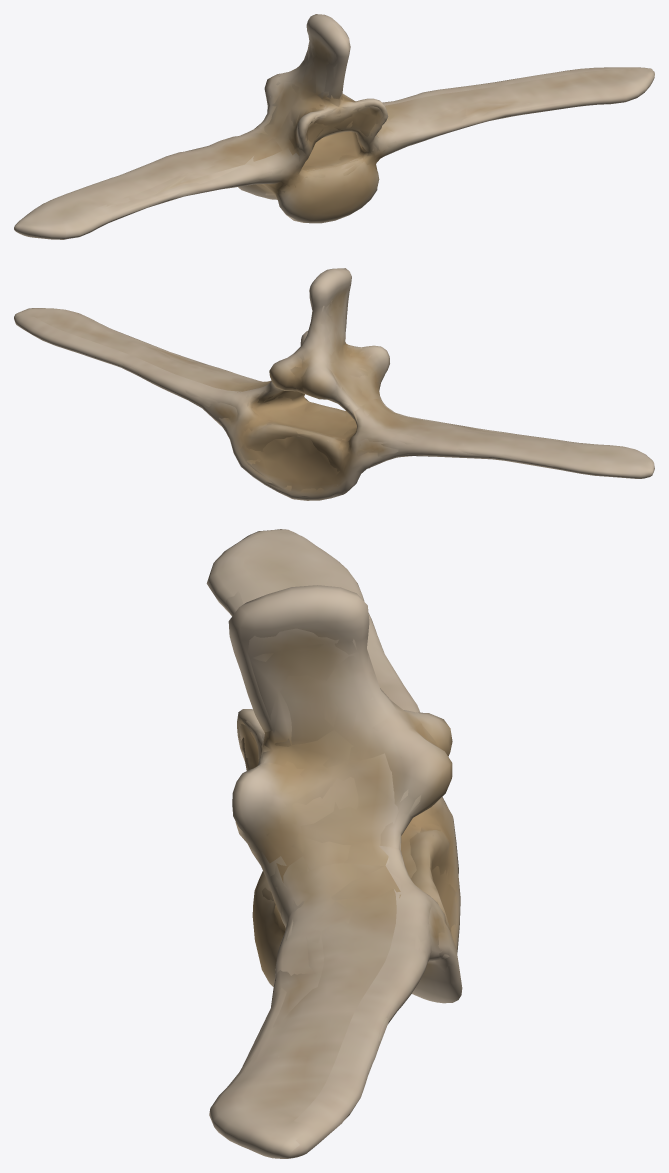
File: vertebrae lumbales 3.fbx
3 views of the same model, one above another, from view 1: azimuth 30°, elevation 25°; view 2: azimuth 150°, elevation 25°; view 3: azimuth 270°, elevation 25° (orthographic). The views are drawn at different scales.
Visible parts, largest first — view 1: vertebrae lumbales 3, vertebrae lumbales 3 low; view 2: vertebrae lumbales 3, vertebrae lumbales 3 low; view 3: vertebrae lumbales 3, vertebrae lumbales 3 low.
Boxes of the visible parts, bbox=[...] form: vertebrae lumbales 3: bbox=[14, 14, 654, 239]; vertebrae lumbales 3 low: bbox=[93, 36, 598, 224]; vertebrae lumbales 3: bbox=[14, 268, 654, 500]; vertebrae lumbales 3 low: bbox=[72, 286, 593, 497]; vertebrae lumbales 3: bbox=[206, 529, 462, 1158]; vertebrae lumbales 3 low: bbox=[226, 591, 457, 1084].
Bounding box in the file's own units: 35.23 × 10.66 × 6.11.
Materials: 1 (1 with a texture image).
